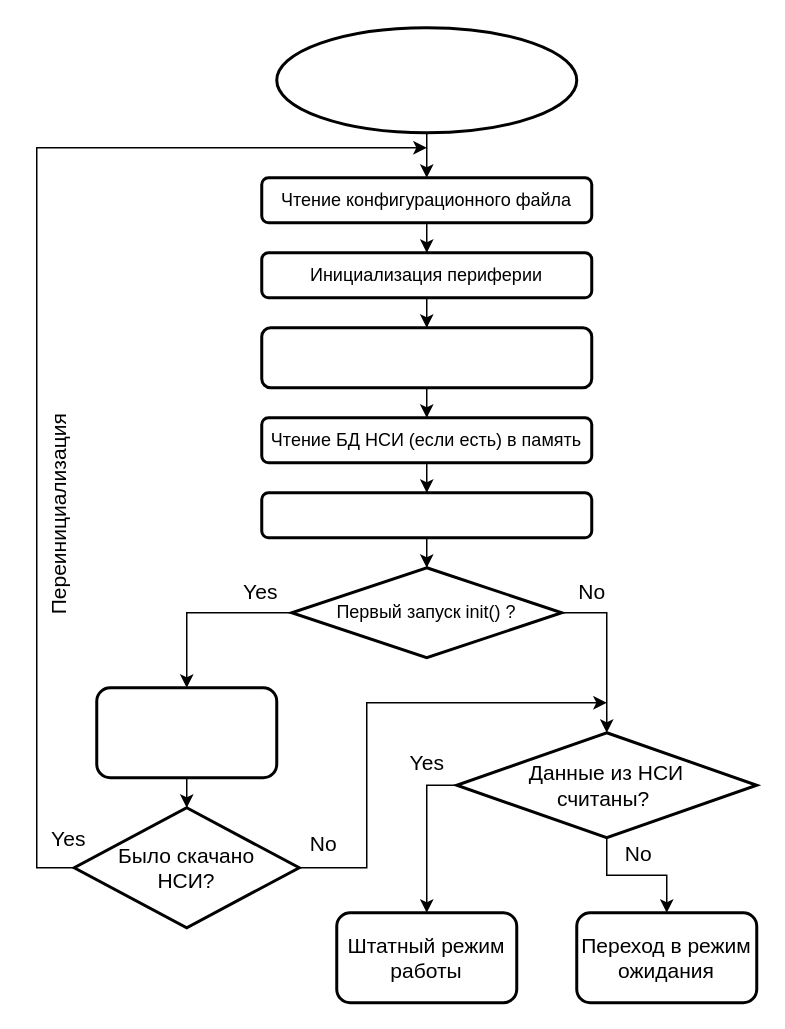
Some shapes in this 785 by 1029 pixel diagram are drawn without their labels. The shapes that lost their labels are listed below. From the top down, each one's centre as x and y in pixels, then its label:
At pixel 426 80: "init()".
At pixel 426 357: "Инициализация идентификатора устройства".
At pixel 426 514: "Инициализация клиента ЛЦ".
At pixel 186 732: "Запрос обновления файлов НСИ и медиа из ЛЦ".
